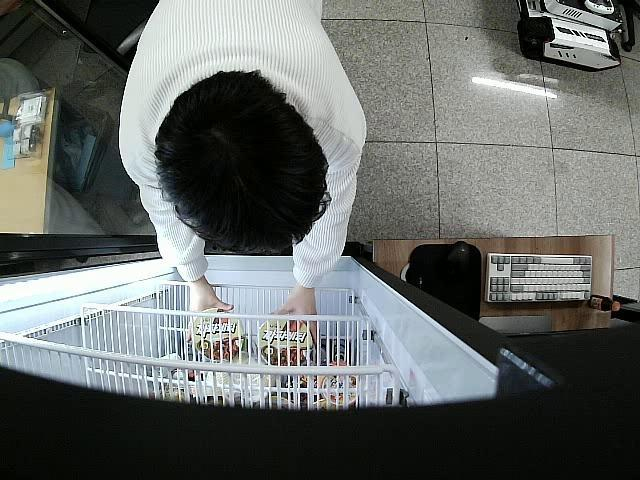03_chapagetti_L: (258, 317, 315, 366), (192, 310, 245, 360)
